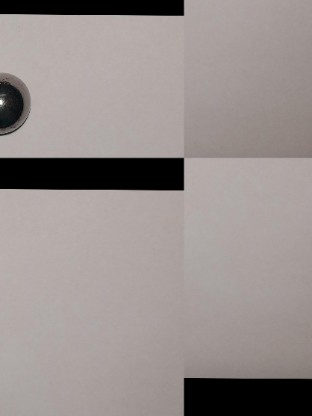ironball: (0, 66, 38, 136)
